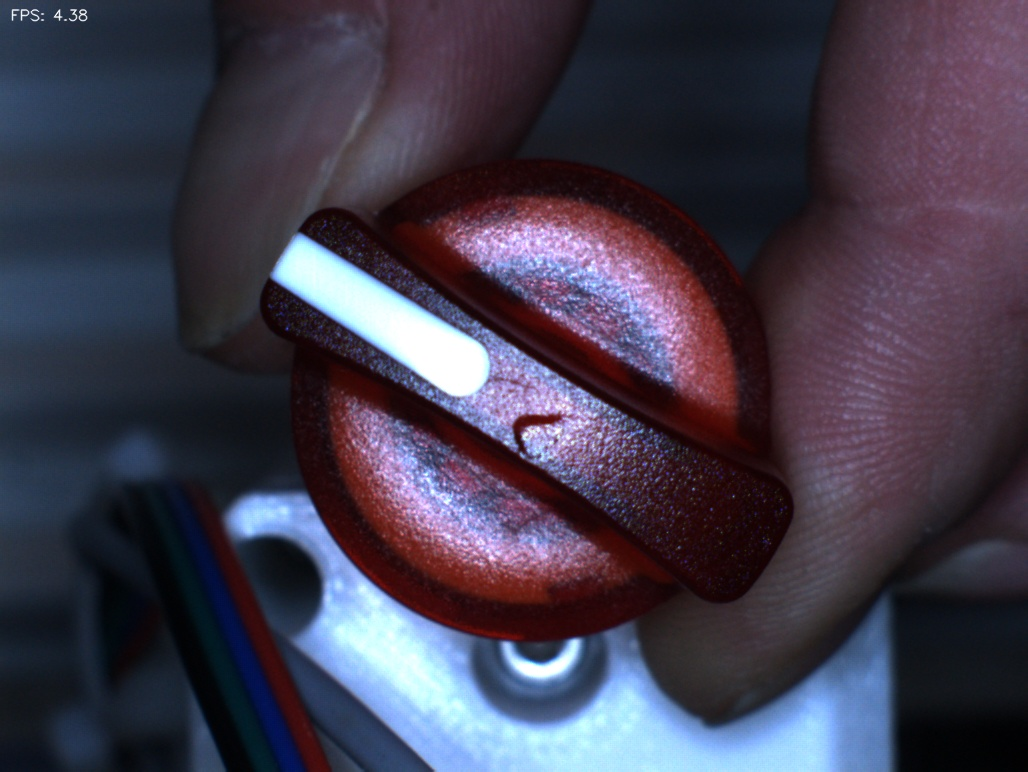Choc: (495, 393, 581, 479)
